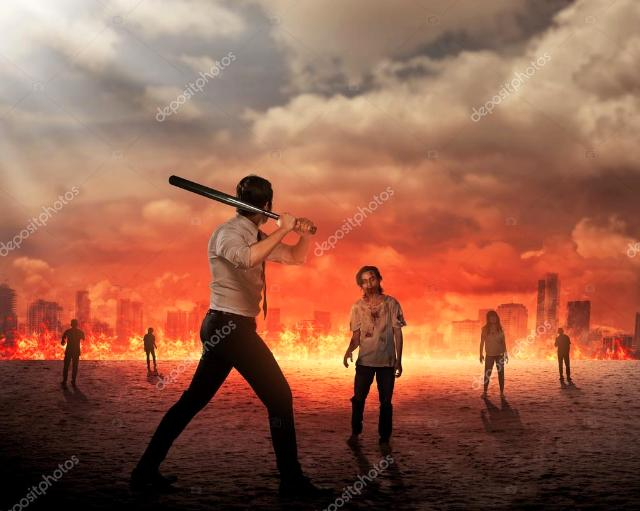baseball bat: (172, 176, 316, 232)
